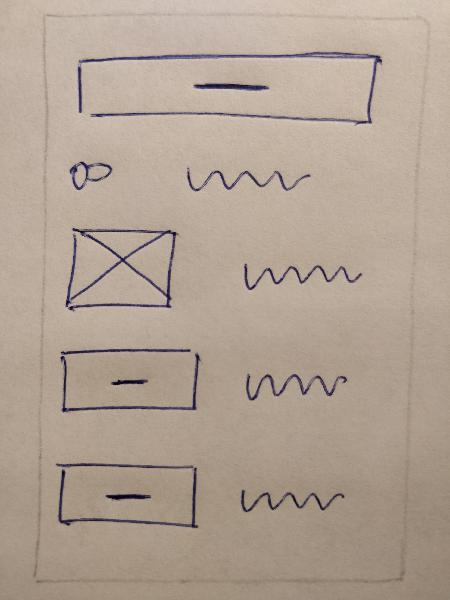button: (70, 48, 383, 132), (54, 341, 205, 420), (54, 453, 205, 532)
image: (56, 221, 183, 319)
switch: (53, 154, 135, 201)
text: (179, 156, 314, 200), (232, 251, 367, 295), (229, 361, 364, 405), (224, 473, 359, 517)
